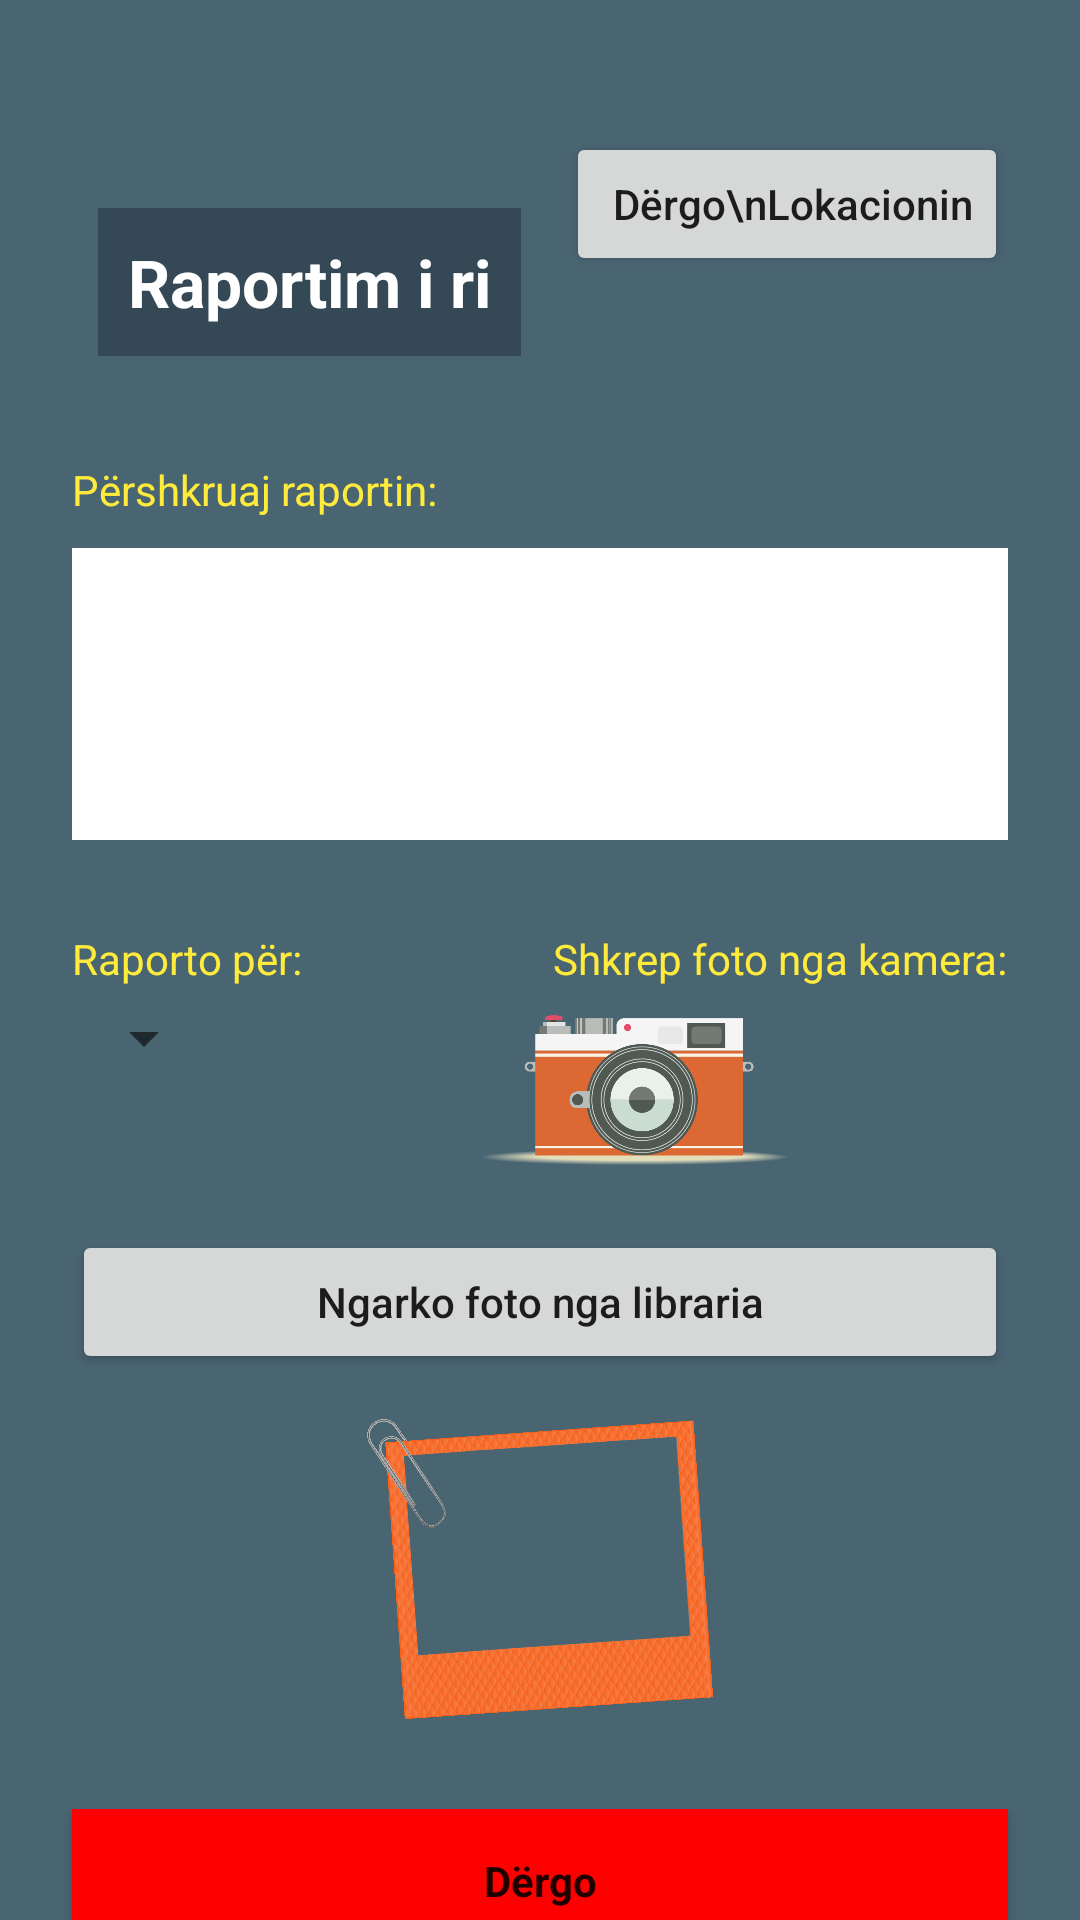

Screen size 1080x1920. Icon name, then its center in pixels as point (x, y):
camera: point (635, 1089)
korniza: point (540, 1569)
